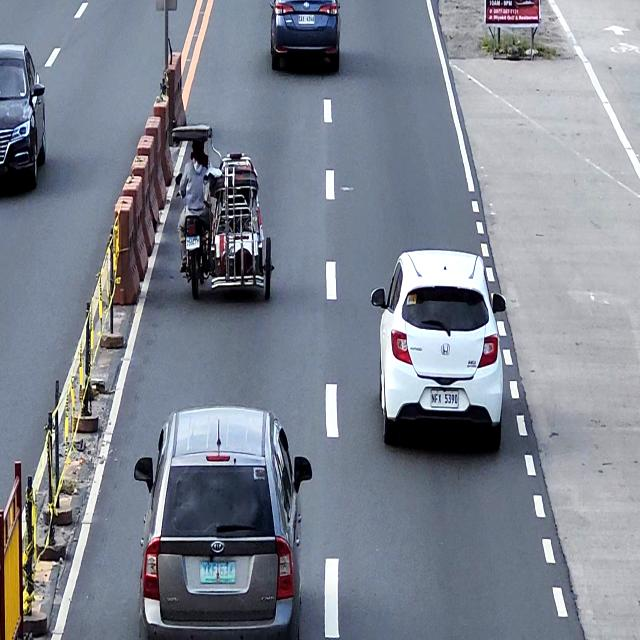Car: (134, 407, 312, 640), (369, 251, 507, 460), (0, 43, 48, 198), (269, 0, 341, 76)
License-Plate: (199, 558, 236, 584), (430, 388, 459, 408), (186, 236, 200, 250), (298, 14, 315, 24)
Tricycle: (171, 124, 275, 302)
